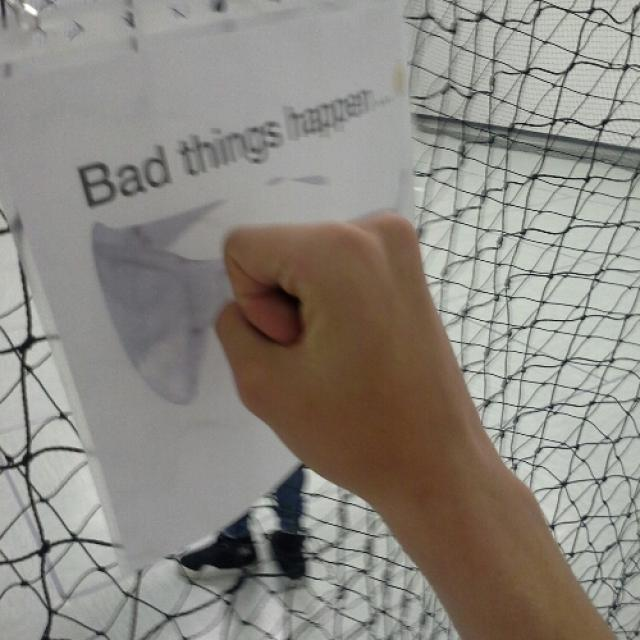rock: (220, 218, 456, 494)
